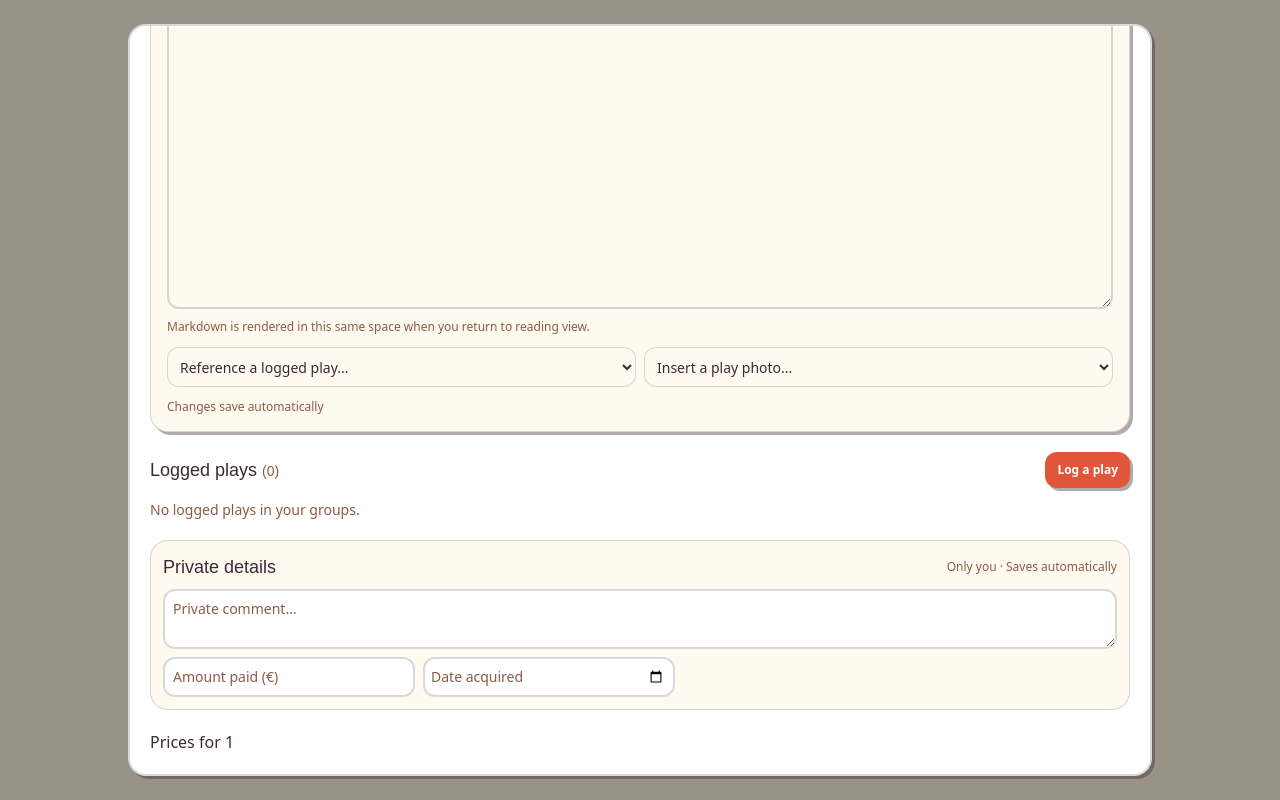
Test: GameDetailsSheet interactions › logs a play in the group that opened the game details
(page scrolled)
Click the button "Log a play".
click(1088, 470)  # box [1045,452,1130,488]
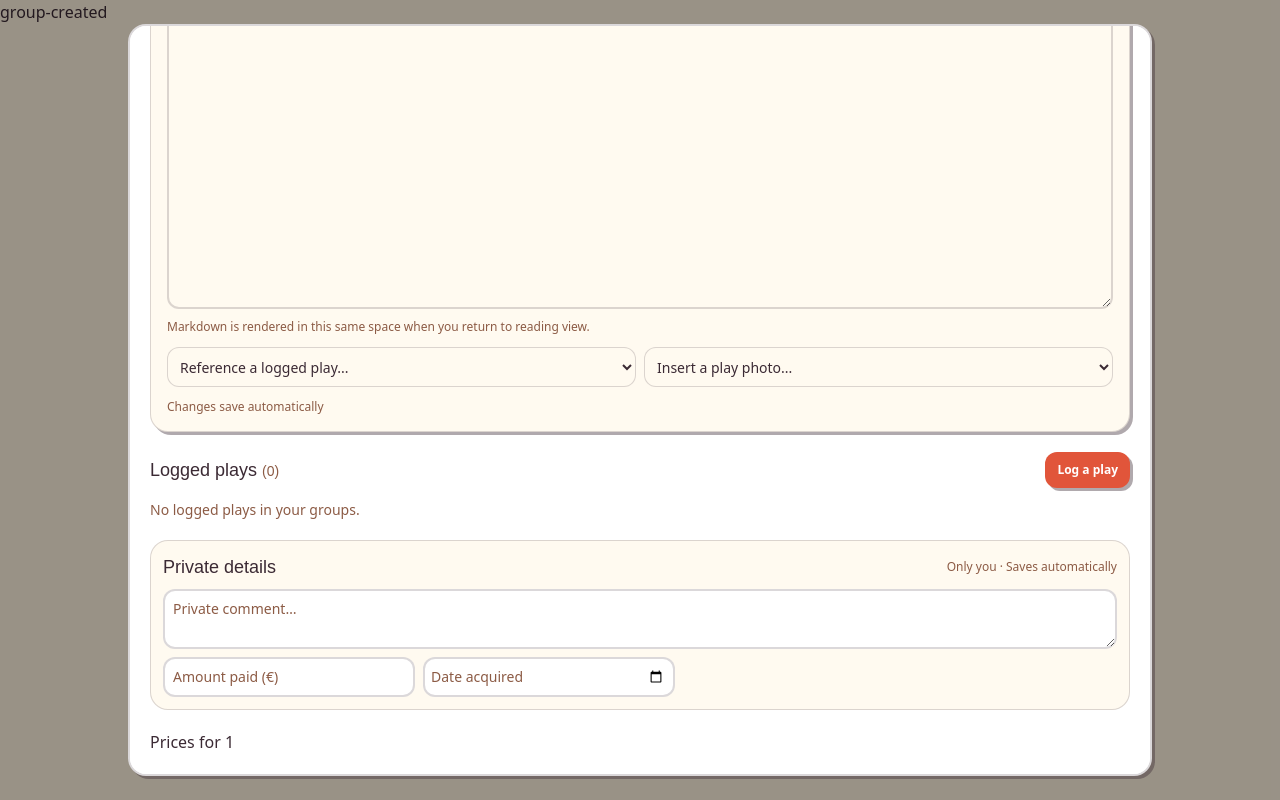
Expected: the text with test id "play-log-group" reads "group-created", [0,1,107,23]
